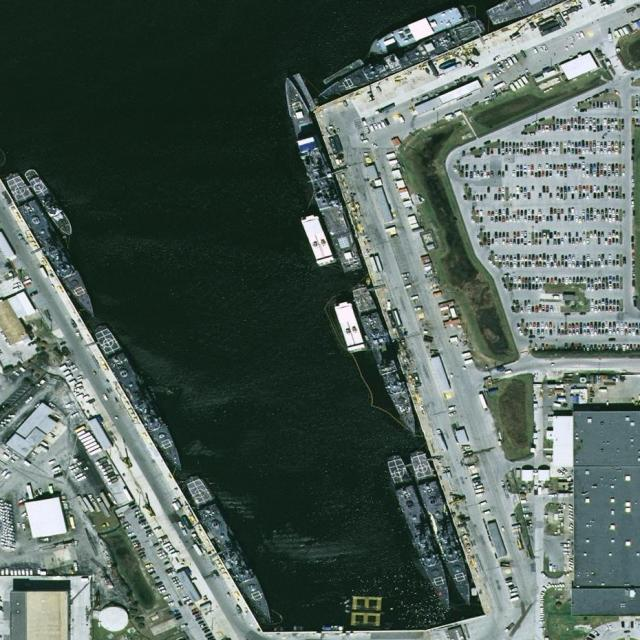Cruiser: (279, 75, 361, 275)
Frigate: (182, 471, 281, 628), (91, 321, 187, 474), (3, 171, 100, 321), (314, 18, 484, 103), (384, 451, 460, 611), (351, 282, 424, 442), (412, 449, 478, 611)
Other Warship: (365, 3, 472, 61)
